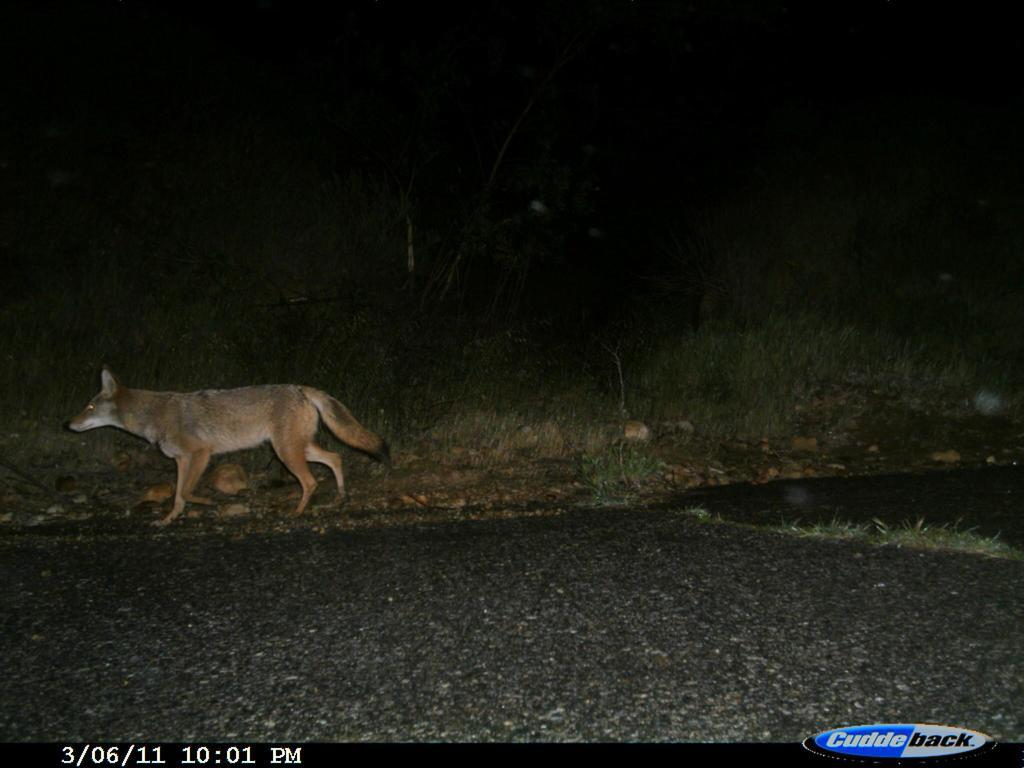coyote: (68, 354, 395, 530)
